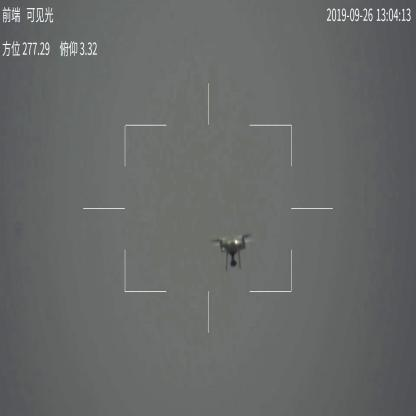uav: (214, 232, 253, 274)
